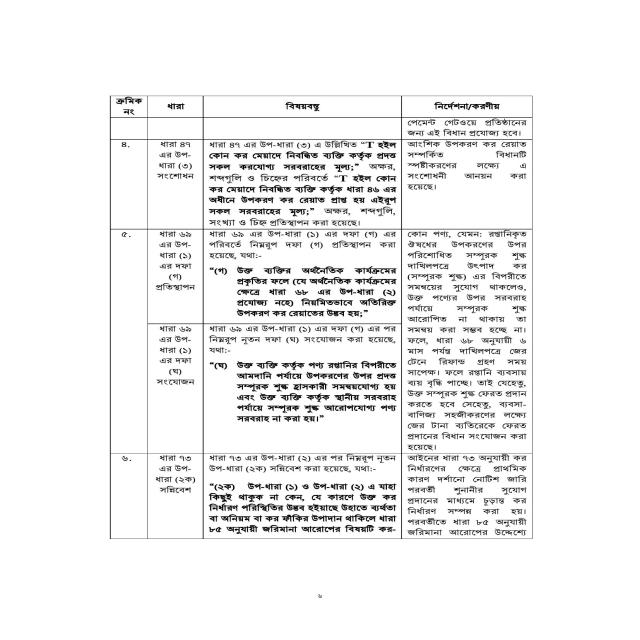table: (109, 95, 533, 539)
text: (406, 230, 529, 452), (208, 140, 398, 228), (207, 360, 398, 423), (207, 481, 399, 535), (208, 265, 398, 319), (406, 453, 528, 537), (406, 140, 528, 192), (207, 230, 398, 261), (208, 324, 397, 355), (207, 453, 397, 474), (153, 230, 196, 292), (155, 325, 196, 386), (406, 118, 528, 137), (155, 454, 196, 494), (156, 140, 196, 180), (433, 101, 501, 111), (114, 96, 144, 116), (284, 102, 322, 112), (166, 101, 186, 111), (120, 140, 133, 151), (119, 231, 131, 239), (120, 455, 133, 462)
